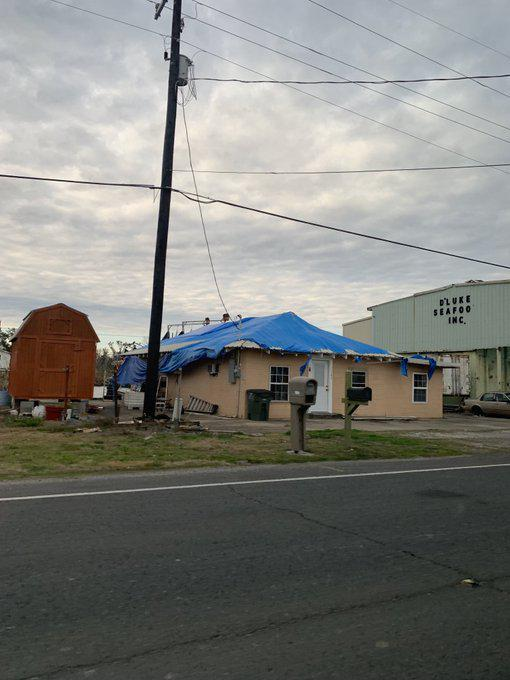major: (128, 315, 450, 419)
